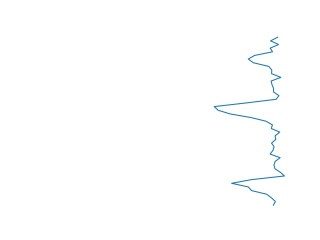underwaterNaturalLevee: (210, 33, 289, 211)
